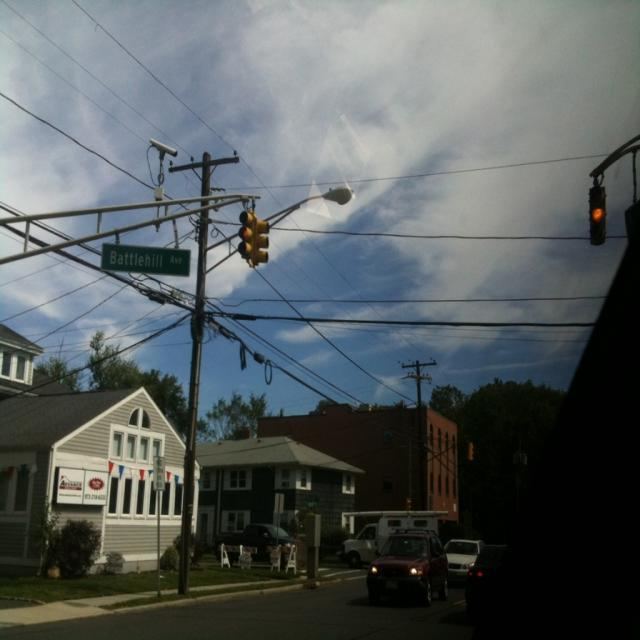traffic light: (237, 199, 269, 269), (587, 177, 608, 249)
